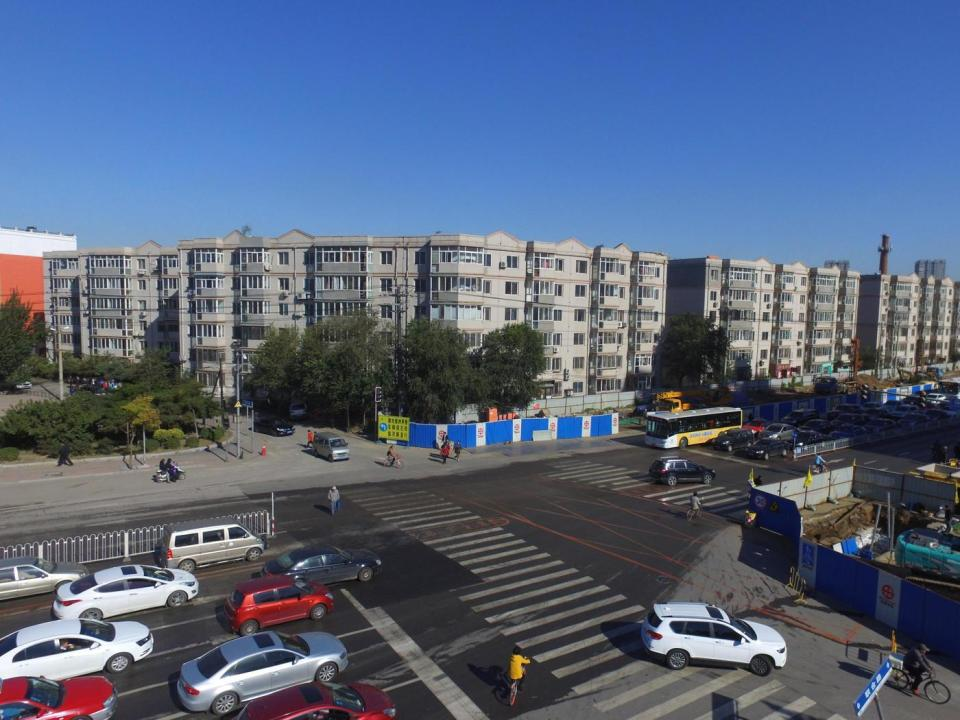bus: (645, 410, 744, 448)
car: (173, 631, 365, 715), (640, 600, 792, 674), (55, 565, 201, 631), (0, 618, 156, 677), (215, 571, 337, 637), (230, 680, 403, 720), (2, 670, 123, 720), (256, 548, 390, 592), (1, 553, 96, 603), (650, 454, 716, 487), (253, 416, 300, 442), (710, 426, 756, 451), (744, 437, 791, 461), (829, 422, 870, 445), (786, 431, 830, 451), (758, 422, 798, 443), (827, 398, 862, 420), (0, 368, 34, 390), (78, 383, 110, 405), (796, 419, 834, 437), (829, 413, 868, 430), (862, 418, 898, 436), (890, 403, 924, 421), (744, 416, 776, 435), (898, 412, 931, 428), (863, 406, 892, 424), (288, 398, 308, 421), (925, 408, 950, 425), (882, 397, 904, 416), (862, 400, 886, 416), (922, 392, 948, 405), (903, 394, 926, 408), (943, 403, 960, 421)
truck: (813, 374, 866, 397), (912, 363, 946, 379)
van: (148, 521, 275, 567), (313, 429, 350, 463), (780, 406, 823, 431)
